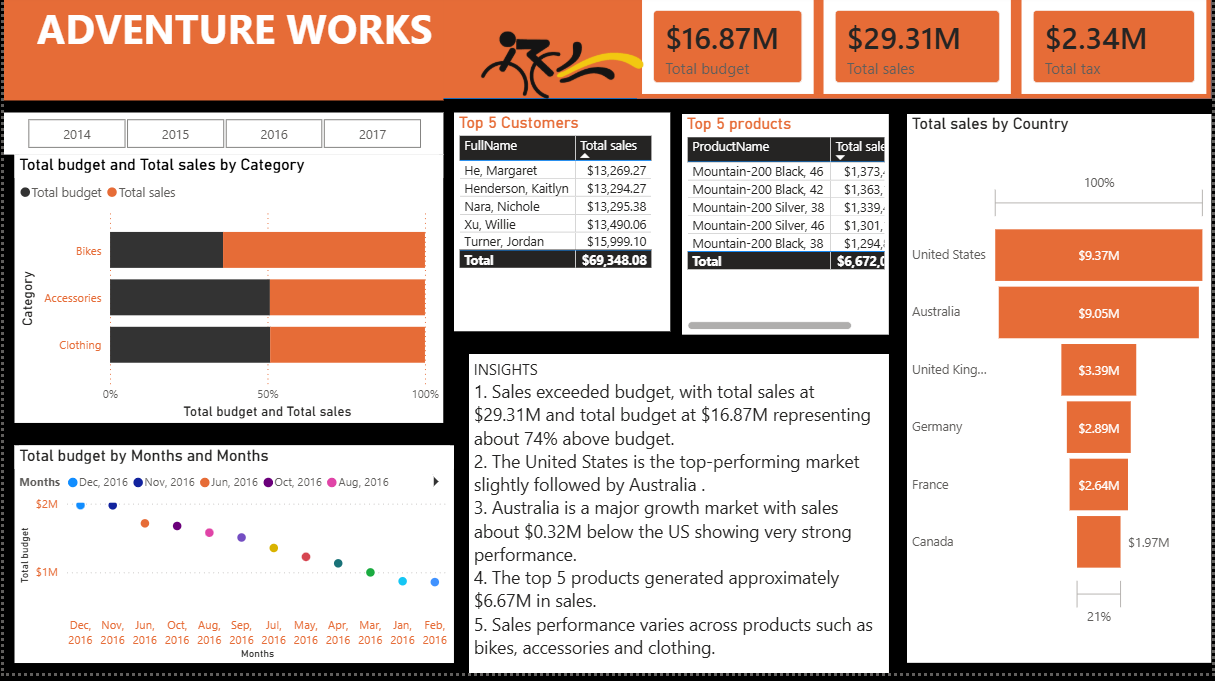

This screenshot's page, from the dashboard's own definition file:
{"tool":"powerbi","page":{"name":"Page 1","canvas":[1280,720],"ordinal":0},"visuals":[{"type":"shape","box":[0,0,1280.4,111.3],"z":0},{"type":"cardVisual","fields":{"Data":["Budget.Total budget"]},"box":[671.2,0,192.5,111.3],"z":1000},{"type":"cardVisual","fields":{"Data":["Sales.Total sales"]},"box":[863.7,0,210,111.3],"z":2000},{"type":"cardVisual","fields":{"Data":["Sales.Total tax"]},"box":[1073.7,0,206.8,111.3],"z":3000},{"type":"textbox","box":[0,1.6,466,111.3],"z":4000},{"type":"image","box":[477.2,39.8,222.7,73.2],"z":5000},{"type":"slicer","fields":{"Values":["Calendar.Year"]},"box":[0,125.7,466,44.5],"z":6000},{"type":"hundredPercentStackedBarChart","fields":{"Category":["Product.Category"],"Y":["Budget.Total budget","Sales.Total sales"]},"box":[11.1,170.2,454.9,284.7],"z":7000},{"type":"lineChart","fields":{"Series":["Budget.Months"],"Category":["Budget.Months"],"Y":["Budget.Total budget"]},"box":[11.1,478.8,466,230.6],"z":8000},{"type":"tableEx","title":"Top 5 products","fields":{"Values":["Product.ProductName","Sales.Total sales"]},"box":[719,127.2,219.5,233.8],"z":9000},{"type":"tableEx","title":"Top 5 Customers","fields":{"Values":["Customer.FullName","Sales.Total sales"]},"box":[477.2,125.7,229,232.2],"z":10000},{"type":"funnel","fields":{"Category":["Territories.Country"],"Y":["Sales.Total sales"]},"box":[957.5,127.2,322.9,582.2],"z":11000},{"type":"textbox","box":[493.1,381.7,445.4,338.8],"z":11001}]}

Visuals, with their boxes in screenshot pixels (x1, y1, x2, y2), scaled from the page's 1280x720 canvas onto the 1215x681 screenshot:
shape: (left=0, top=0, right=1214, bottom=105)
cardVisual - Budget.Total budget: (left=637, top=0, right=820, bottom=105)
cardVisual - Sales.Total sales: (left=820, top=0, right=1019, bottom=105)
cardVisual - Sales.Total tax: (left=1019, top=0, right=1214, bottom=105)
textbox: (left=0, top=2, right=442, bottom=107)
image: (left=453, top=38, right=664, bottom=107)
slicer - Calendar.Year: (left=0, top=119, right=442, bottom=161)
hundredPercentStackedBarChart - Product.Category x Budget.Total budget: (left=11, top=161, right=442, bottom=430)
lineChart - Budget.Months x Budget.Months: (left=11, top=453, right=453, bottom=671)
"Top 5 products" tableEx: (left=682, top=120, right=891, bottom=341)
"Top 5 Customers" tableEx: (left=453, top=119, right=670, bottom=339)
funnel - Territories.Country x Sales.Total sales: (left=909, top=120, right=1214, bottom=671)
textbox: (left=468, top=361, right=891, bottom=680)
